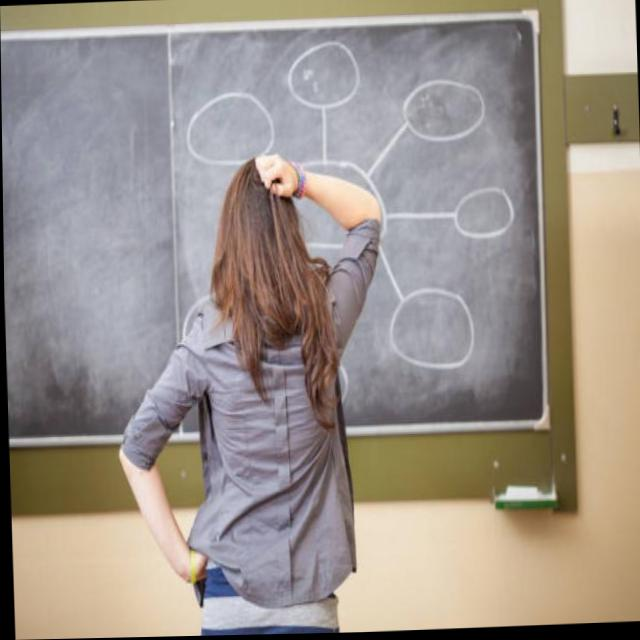no helmet: (219, 156, 310, 285)
